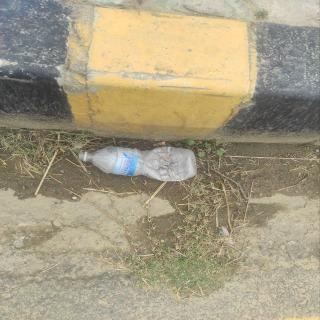Plastic-bottle: (77, 145, 200, 185)
